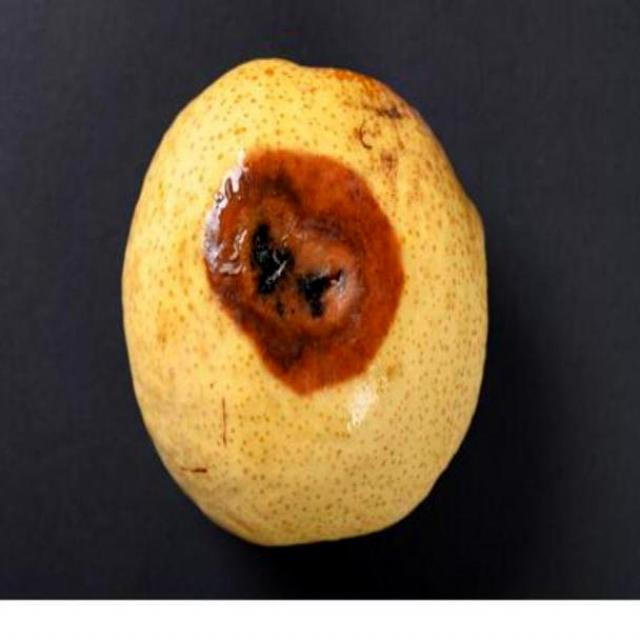ROT: (119, 40, 486, 516)
